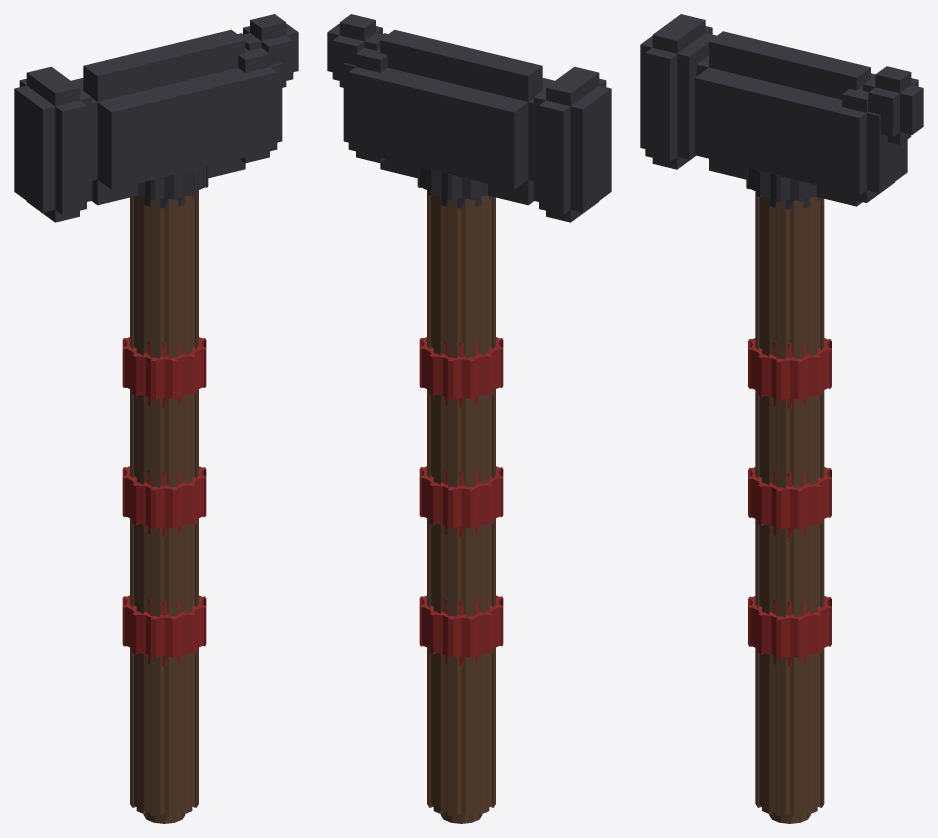
The model's file is RepairHammer.fbx.
The picture shows the model from 3 angles, left to right: view 1: azimuth 30°, elevation 25°; view 2: azimuth 150°, elevation 25°; view 3: azimuth 330°, elevation 25°; orthographic projection.
Parts seen in each view (by area): view 1: RepairHammer; view 2: RepairHammer; view 3: RepairHammer.
Boxes of the visible parts, left/top/right/bottom form: RepairHammer: left=14, top=14, right=298, bottom=823; RepairHammer: left=327, top=14, right=611, bottom=823; RepairHammer: left=640, top=14, right=923, bottom=823.
Bounding box in the file's own units: 0.214 × 0.595 × 0.0615.
